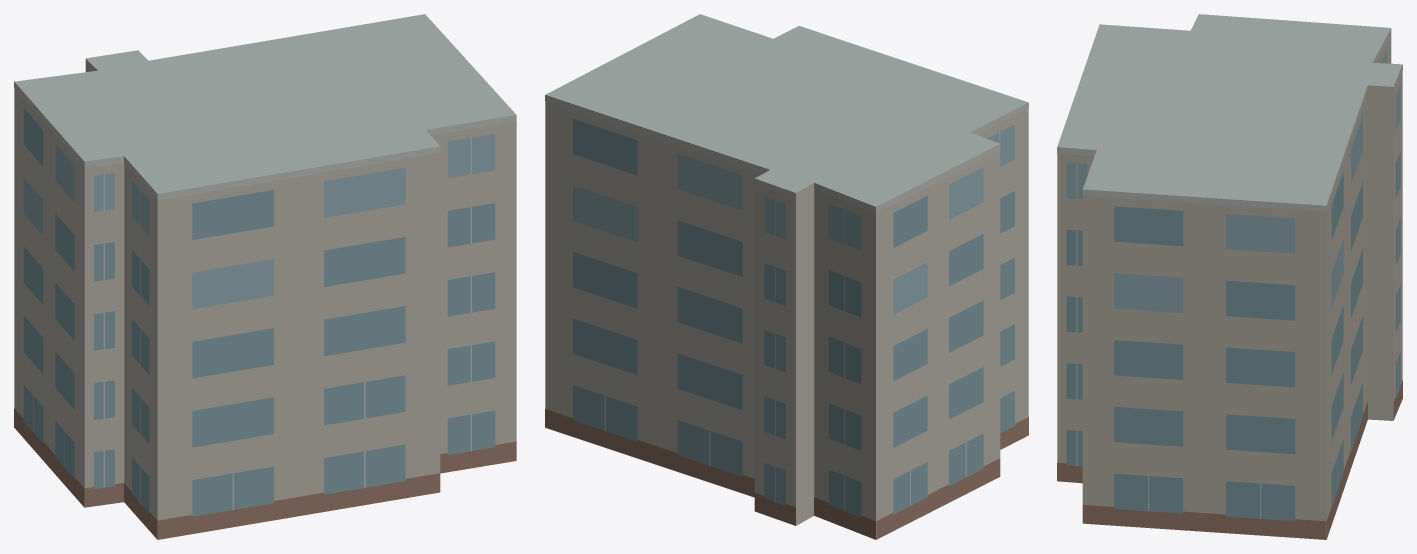
Rendered from survey-upis-32945549.glb.
3 views of the same model, side by side, from view 1: azimuth 30°, elevation 25°; view 2: azimuth 150°, elevation 25°; view 3: azimuth 270°, elevation 25° (orthographic). The views are drawn at different scales.
Parts seen in each view (by area): view 1: survey-upis-32945549.tmp; view 2: survey-upis-32945549.tmp; view 3: survey-upis-32945549.tmp.
Part boxes in pixels (<box>): survey-upis-32945549.tmp: <box>14,14,516,539</box>; survey-upis-32945549.tmp: <box>545,14,1028,539</box>; survey-upis-32945549.tmp: <box>1057,14,1402,539</box>.
Bounding box in the file's own units: 15.81 × 12.84 × 12.05.
